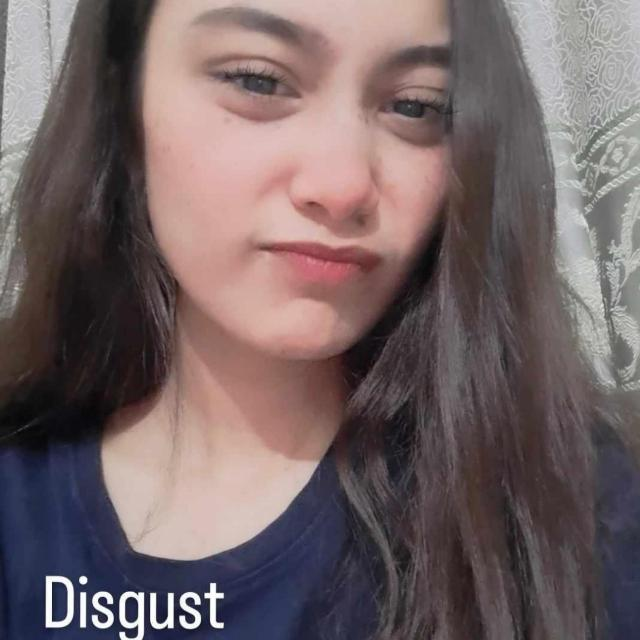Disgust: (118, 0, 516, 400)
